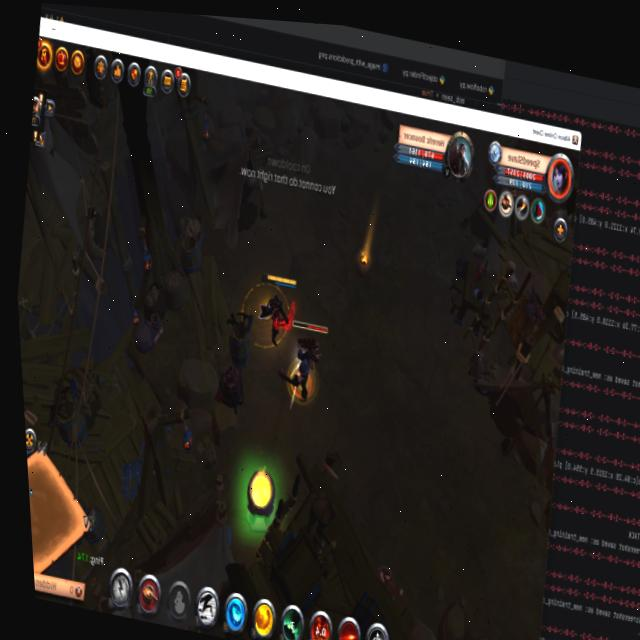fiber: (235, 456, 287, 537)
ore: (275, 311, 337, 414)
red: (248, 267, 304, 351)
